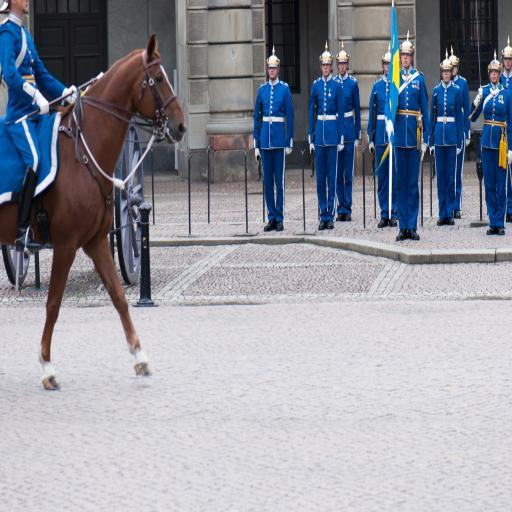Horse: (0, 32, 187, 392)
